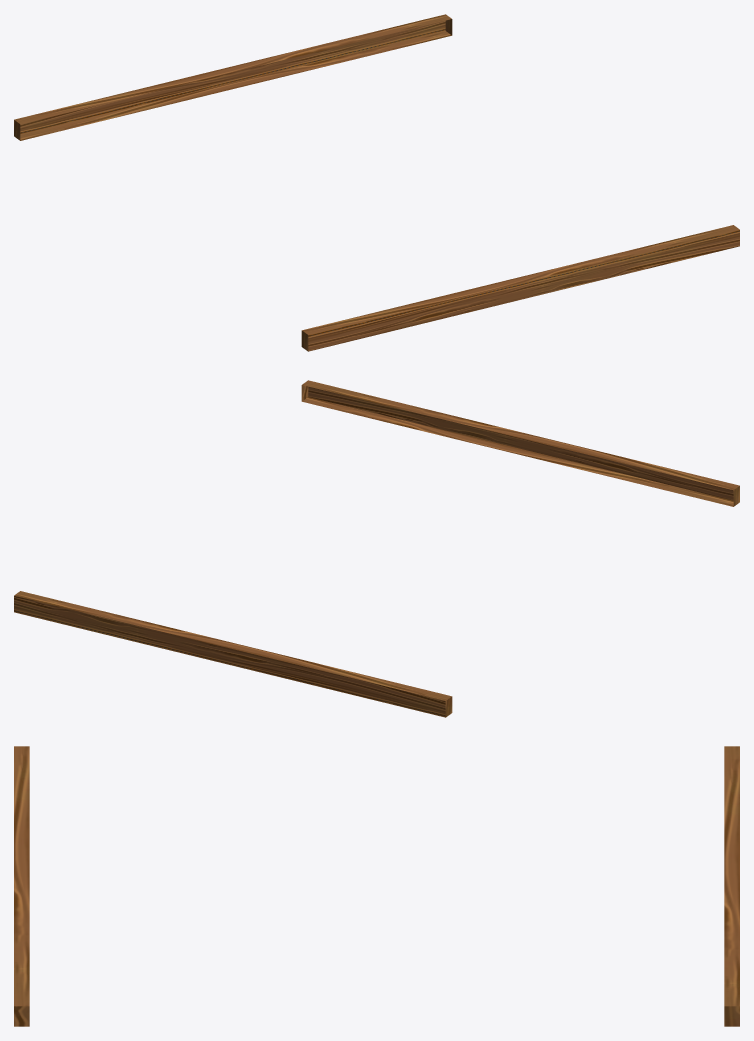
The picture shows the model from 3 angles, top to bottom: view 1: azimuth 30°, elevation 25°; view 2: azimuth 150°, elevation 25°; view 3: azimuth 270°, elevation 25°; orthographic projection. The views are drawn at different scales.
Parts seen in each view (by area): view 1: Cube.1197; view 2: Cube.1197; view 3: Cube.1197.
Boxes of the visible parts, left/top/right/bottom form: Cube.1197: left=14, top=14, right=739, bottom=351; Cube.1197: left=14, top=380, right=739, bottom=717; Cube.1197: left=14, top=746, right=739, bottom=1026.
Bounding box in the file's own units: 669 × 24.74 × 790.
Materials: 1 (1 with a texture image).
